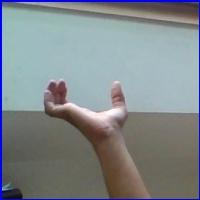B: (40, 73, 136, 139)
